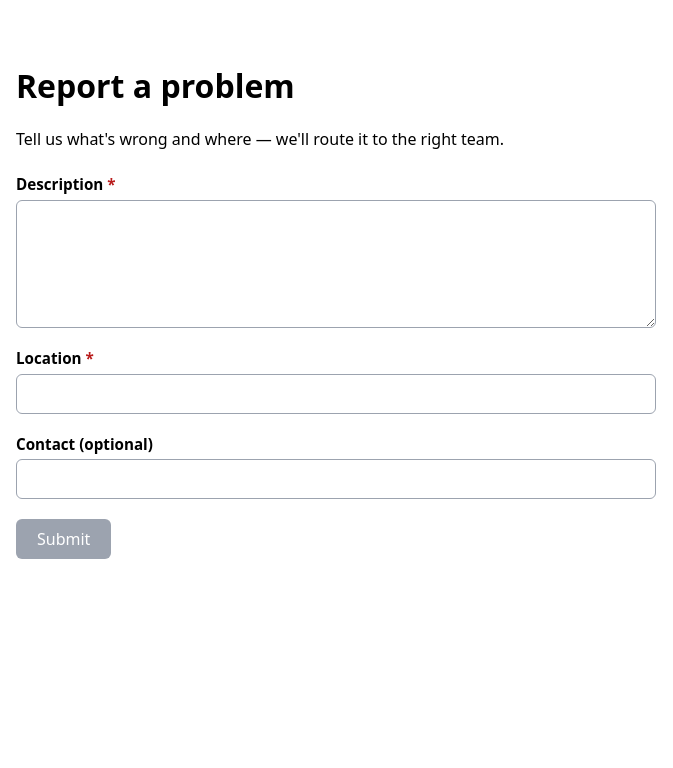
SubmitPage › handles a null ai_summary gracefully instead of a blank field
Type "There is a broken water pipe flooding the street." into the text box labelled "Description *" at (336,264), box [16,200,656,328]
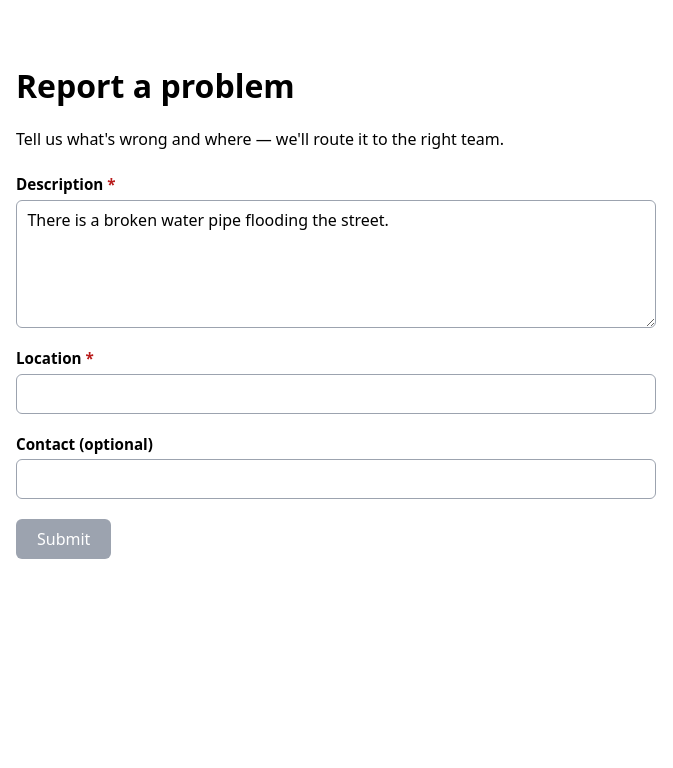
Type "Block 4, Main Street" into the field labelled "Location *" at (336,394), box [16,374,656,414]
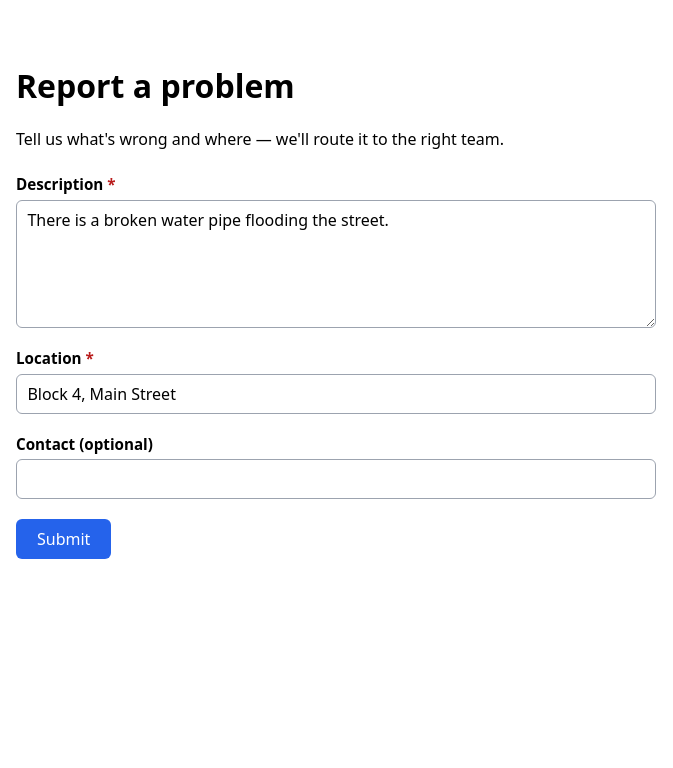
Click the button "Submit" at (64,539), box [16,519,111,559]
(page scrolled)
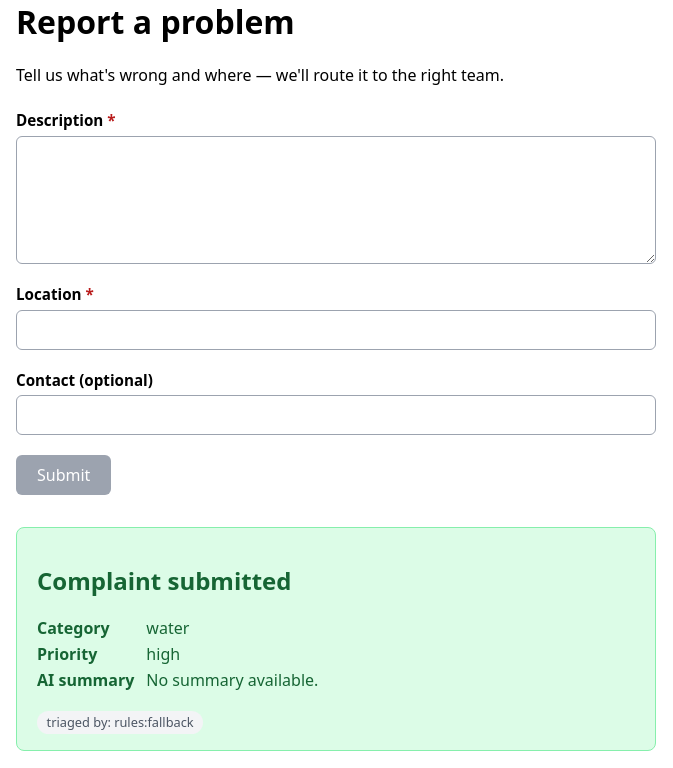
Expected: the text "No summary available." is shown, [146,669,318,691]
Expected: the text "triaged by: rules:fallback" is shown, [37,711,203,734]
